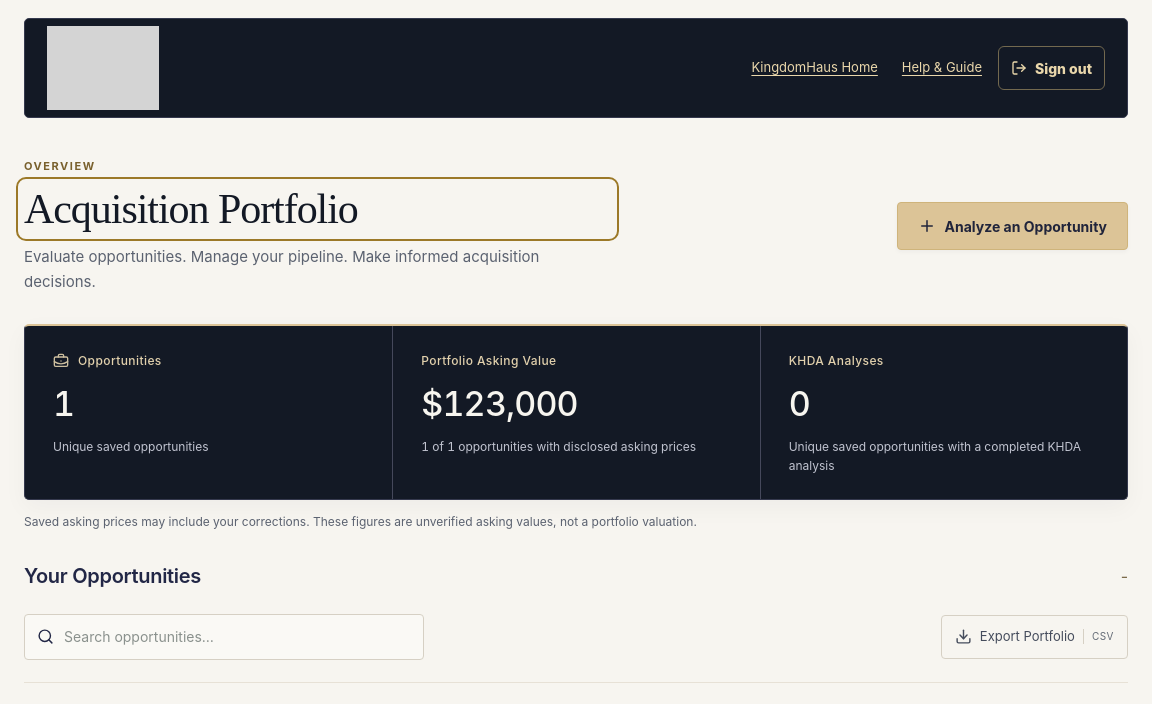
Scenario: cloud workspace presentation without persistence changes › returns home only after sign-out succeeds and retains a retry when sign-out fails
The width and height of the screenshot is (1152, 704).
Later steps or results of the test are not shown.
Step 1. Click the button "Sign out" → x=1052, y=68, box top-left (998, 46), bottom-right (1105, 90)
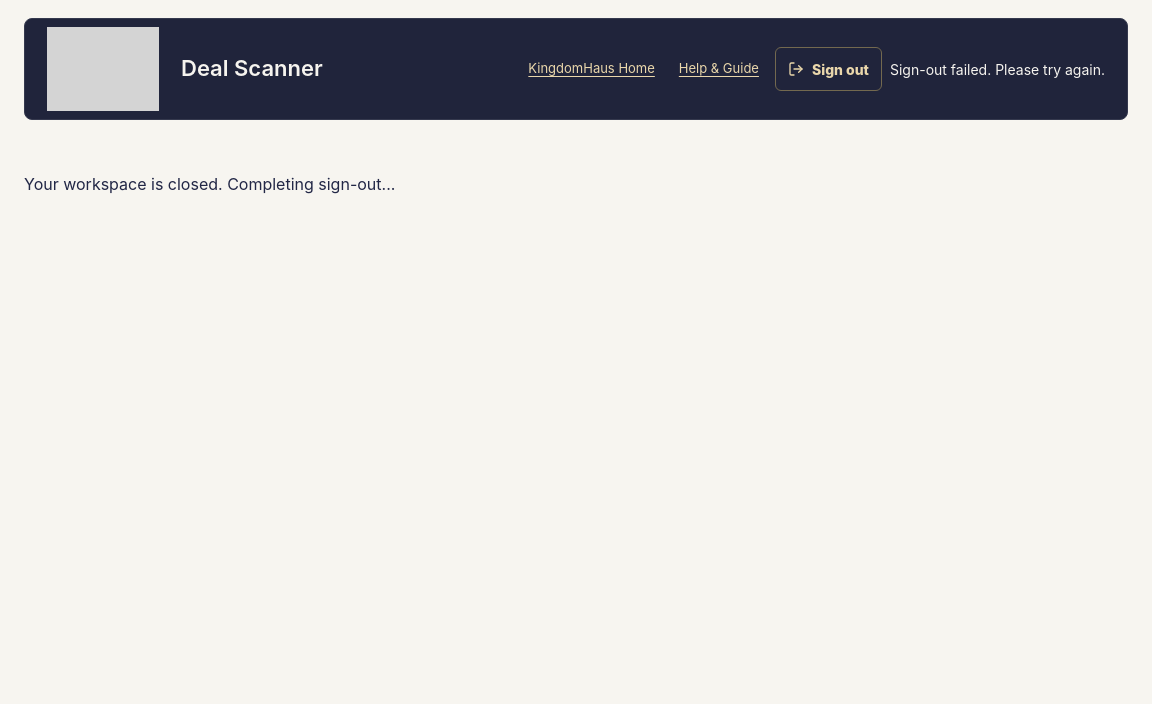
Now the message "Sign-out failed. Please try again." is shown, box top-left (890, 58), bottom-right (1105, 80)
